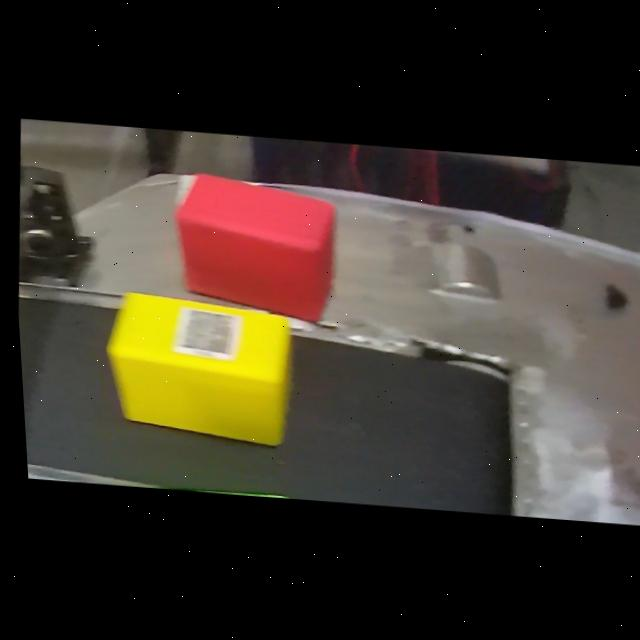greenBox: (90, 475, 291, 499)
redBox: (155, 165, 340, 325)
yellowBox: (93, 288, 296, 448)
